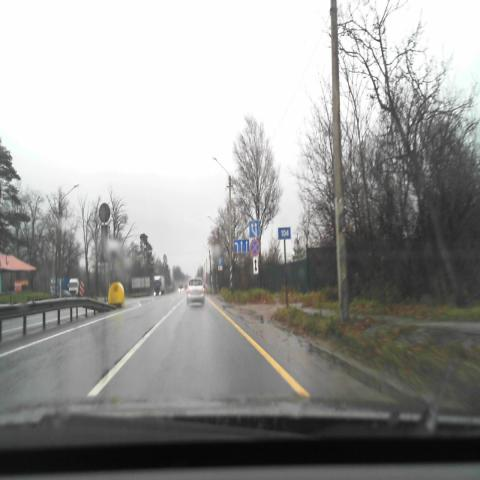3_27: (250, 239, 260, 256)
5_15_1: (234, 239, 249, 252)
5_15_3: (249, 220, 259, 238)
